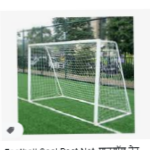goals: (26, 38, 132, 127)
